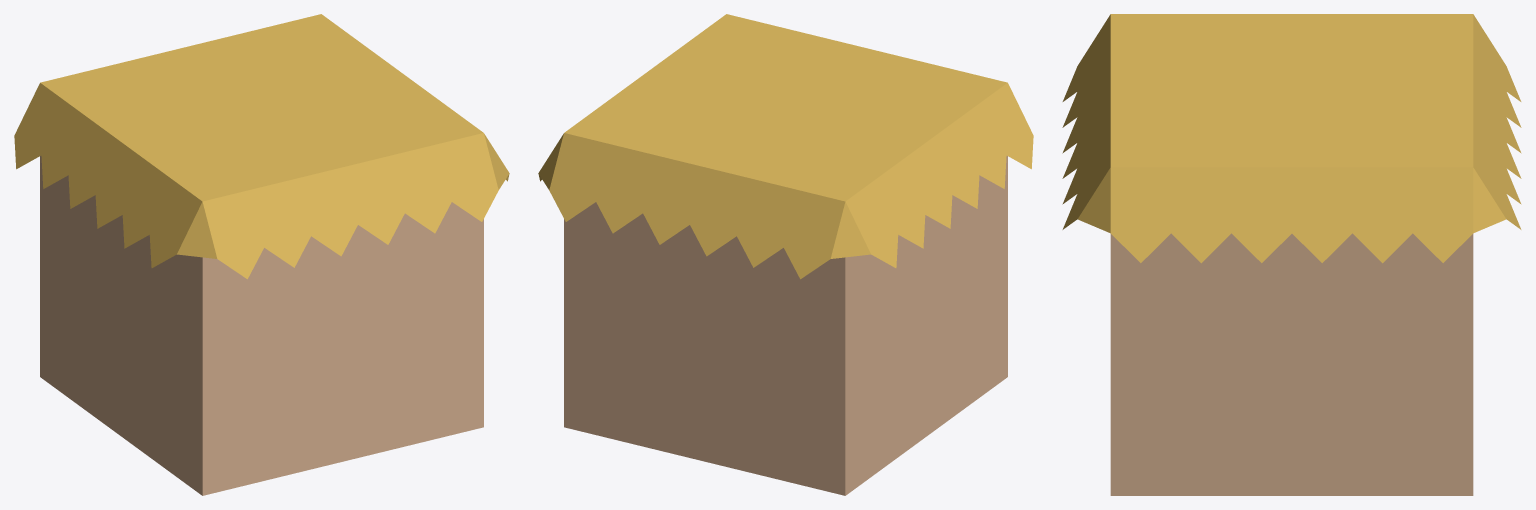
Rendered from FallBlock.fbx.
3 renders of one model, left to right at view 1: azimuth 30°, elevation 25°; view 2: azimuth 150°, elevation 25°; view 3: azimuth 270°, elevation 25°, orthographic. The views are drawn at different scales.
Parts seen in each view (by area): view 1: block; view 2: block; view 3: block.
Boxes of the visible parts, x1=… form: block: x1=14, y1=14, x2=509, y2=495; block: x1=538, y1=14, x2=1033, y2=495; block: x1=1062, y1=14, x2=1521, y2=495.
Bounding box in the file's own units: 15.42 × 12.18 × 15.42.
